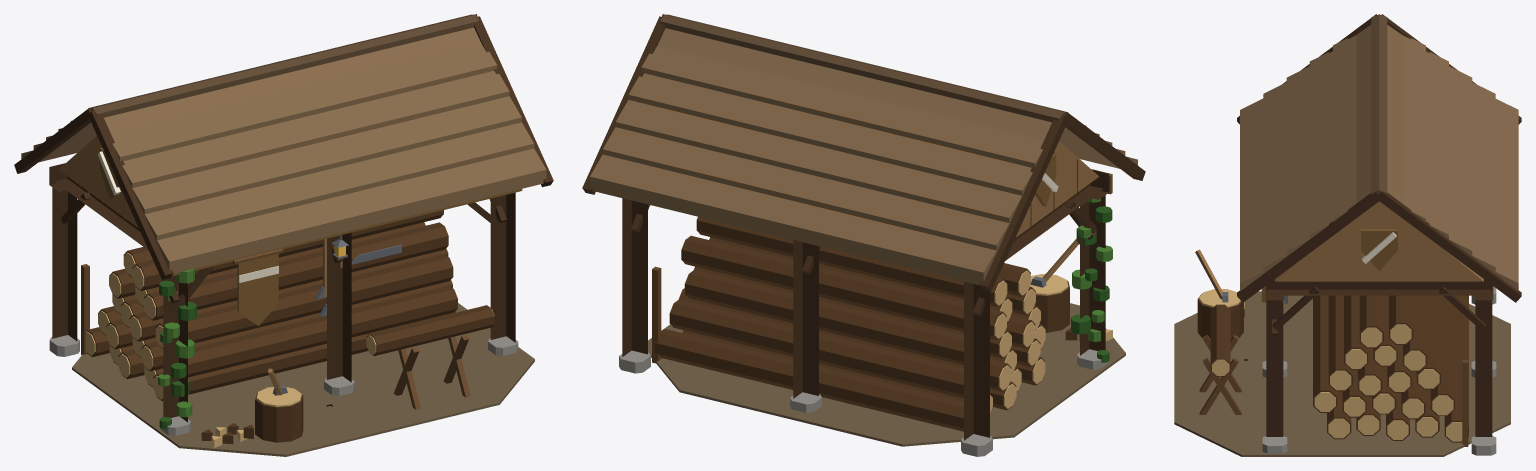
File: lumber_camp_4.obj
3 renders of one model, left to right at view 1: azimuth 30°, elevation 25°; view 2: azimuth 150°, elevation 25°; view 3: azimuth 270°, elevation 25°, orthographic. The views are drawn at different scales.
Visible parts, largest first — view 1: Roof, Log, Ground, Post, Roof.Ridge, Gable.Barge, Log.End, Ivy, Pennant, Gable, Post.Foot, Block (+7 smaller); view 2: Roof, Log, Post, Ground, Roof.Ridge, Gable.Barge, Log.End, Ivy, Gable, Post.Foot, Beam.Side, Block (+2 smaller); view 3: Roof, Ground, Log, Gable, Log.End, Post, Gable.Barge, Beam.Side, Roof.Ridge, Post.Foot, Sawhorse.Leg, Brace (+4 smaller).
Part boxes in pixels (x1,y1,x2,y2): Roof: (21, 27, 546, 273); Log: (87, 210, 494, 400); Ground: (72, 303, 534, 456); Post: (52, 163, 515, 422); Roof.Ridge: (88, 14, 479, 117); Gable.Barge: (14, 14, 553, 279); Log.End: (86, 222, 494, 399); Ivy: (158, 268, 196, 429); Pennant: (237, 253, 278, 326); Gable: (58, 136, 138, 228); Post.Foot: (49, 335, 518, 435); Block: (255, 392, 303, 442); Roof: (590, 28, 1137, 284); Log: (654, 216, 1045, 431); Post: (622, 170, 1105, 440); Ground: (648, 303, 1125, 446); Roof.Ridge: (659, 14, 1068, 122); Gable.Barge: (582, 14, 1145, 291); Log.End: (672, 217, 1045, 412); Ivy: (1071, 198, 1112, 362); Gable: (1016, 141, 1098, 237); Post.Foot: (619, 349, 1108, 456); Beam.Side: (1005, 171, 1103, 260); Block: (1035, 280, 1069, 332); Roof: (1240, 25, 1518, 291); Ground: (1174, 291, 1510, 456); Log: (1210, 295, 1468, 442); Gable: (1275, 201, 1483, 281); Log.End: (1212, 324, 1462, 441); Post: (1266, 285, 1492, 436); Gable.Barge: (1237, 14, 1521, 302); Beam.Side: (1267, 279, 1491, 295); Roof.Ridge: (1371, 14, 1387, 194); Post.Foot: (1262, 286, 1496, 455); Sawhorse.Leg: (1199, 335, 1241, 414); Brace: (1272, 286, 1485, 335).
Bounding box in the file's own units: 5.46 × 3.91 × 4.49.
